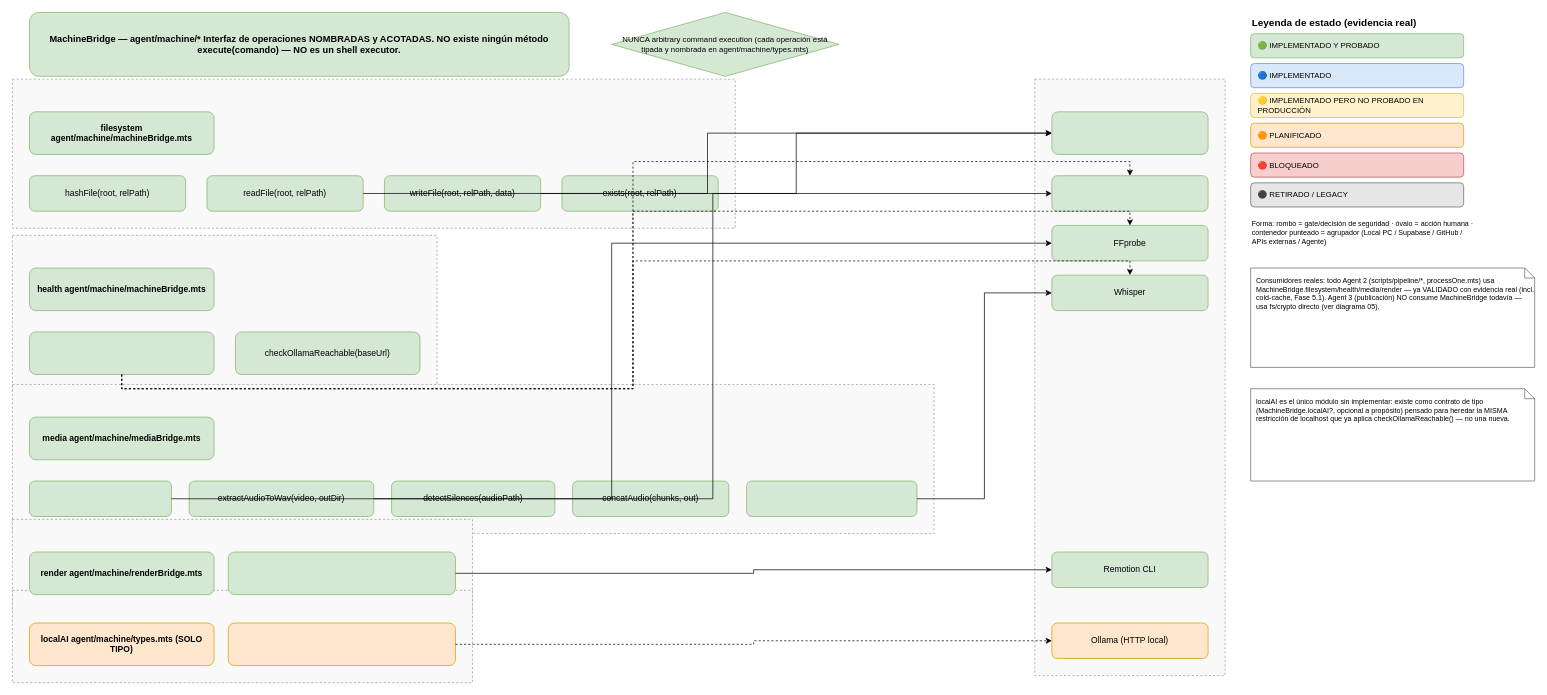
The diagram is 1547 pixels wide and 695 high, and some of its shapes have lost their labels. The shapes that lost their labels are listed below. From the top down, each one's box as (x1, y1, x2, y2) in pixels, then its label:
(1051, 111, 1208, 154): Filesystem (disco local D:\)
(1051, 175, 1208, 211): FFmpeg
(29, 331, 214, 375): checkToolAvailable( 'ffmpeg'|'ffprobe'|'whisper')
(1034, 78, 1225, 676): RECURSOS LOCALES REALES
(29, 480, 171, 517): probe(filePath)
(746, 480, 917, 517): transcribe(audio, timestamps)
(228, 551, 455, 595): renderComposition( compositionId, outputPath, opts)
(228, 622, 455, 666): chatOllama(prompt, model, baseUrl) NO implementado — contrato solamente
